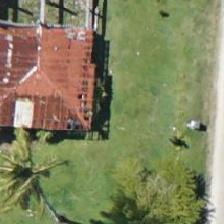coconut_tree: (0, 132, 70, 222)
